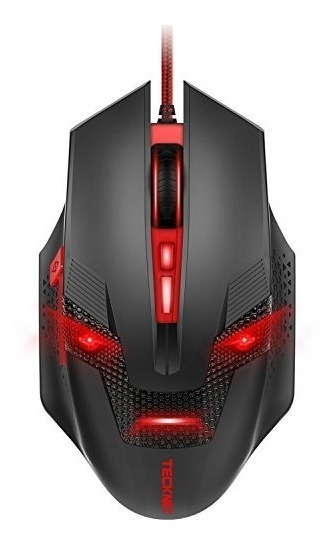mouse: (26, 73, 310, 533)
